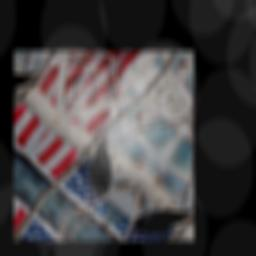Crow: (64, 130, 137, 206)
